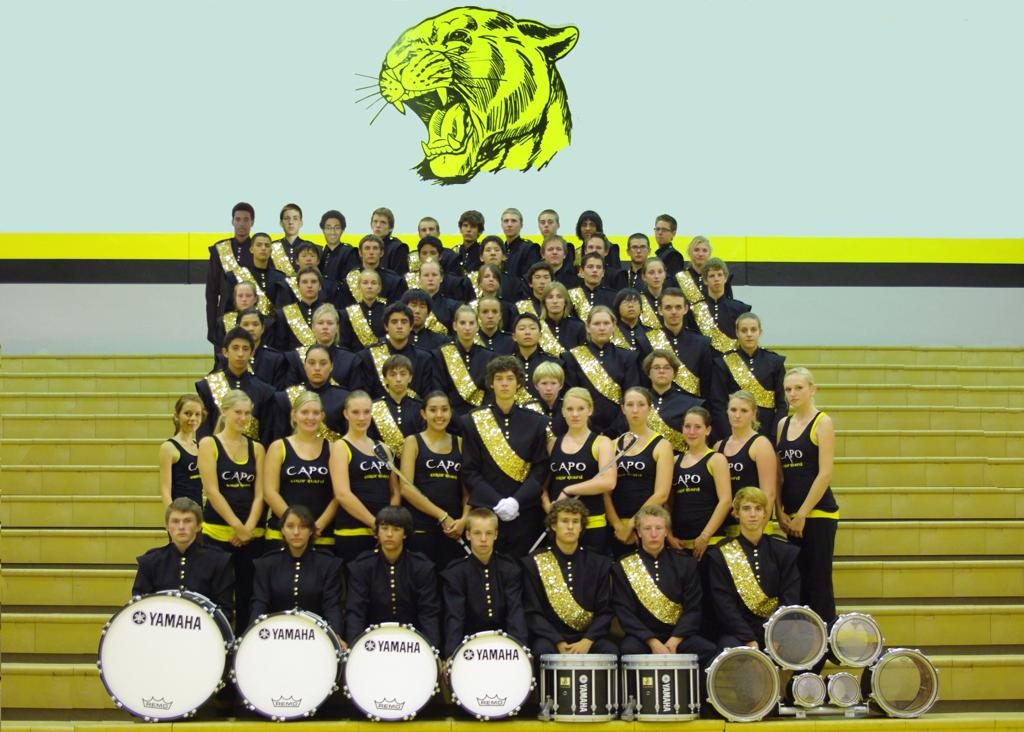human_face: (166, 512, 196, 542), (425, 394, 451, 428), (639, 514, 665, 548), (284, 512, 310, 546), (470, 516, 494, 550), (783, 375, 809, 406), (346, 397, 370, 430), (682, 413, 706, 445), (556, 510, 580, 542), (738, 499, 764, 527), (624, 393, 648, 423), (305, 351, 329, 381), (589, 310, 613, 340), (492, 370, 516, 398), (661, 297, 685, 325), (178, 401, 200, 431), (296, 402, 320, 429), (378, 522, 402, 548), (650, 357, 674, 383), (564, 398, 586, 426), (227, 338, 249, 366), (228, 402, 250, 428), (386, 366, 408, 392), (544, 286, 566, 312), (296, 270, 318, 296), (238, 314, 260, 340), (728, 398, 748, 426), (738, 318, 758, 346), (536, 377, 560, 399), (480, 242, 502, 266), (322, 217, 342, 243), (314, 314, 334, 340), (388, 312, 408, 338), (478, 301, 498, 327), (516, 320, 536, 346), (406, 298, 426, 324), (234, 284, 254, 310), (458, 311, 476, 339), (619, 294, 639, 318), (358, 273, 378, 297), (420, 264, 438, 290), (480, 268, 500, 290), (298, 246, 318, 268), (544, 241, 562, 265), (629, 238, 647, 262), (232, 210, 250, 234), (280, 210, 298, 234), (584, 258, 602, 282), (532, 269, 550, 293), (362, 240, 380, 264), (254, 234, 270, 260), (418, 246, 438, 266), (586, 236, 604, 258), (646, 263, 662, 287), (654, 221, 672, 242), (460, 220, 478, 240), (706, 268, 724, 288), (690, 242, 708, 262), (502, 213, 518, 235), (418, 221, 436, 240), (539, 215, 555, 236), (371, 215, 389, 233), (579, 219, 595, 239)
